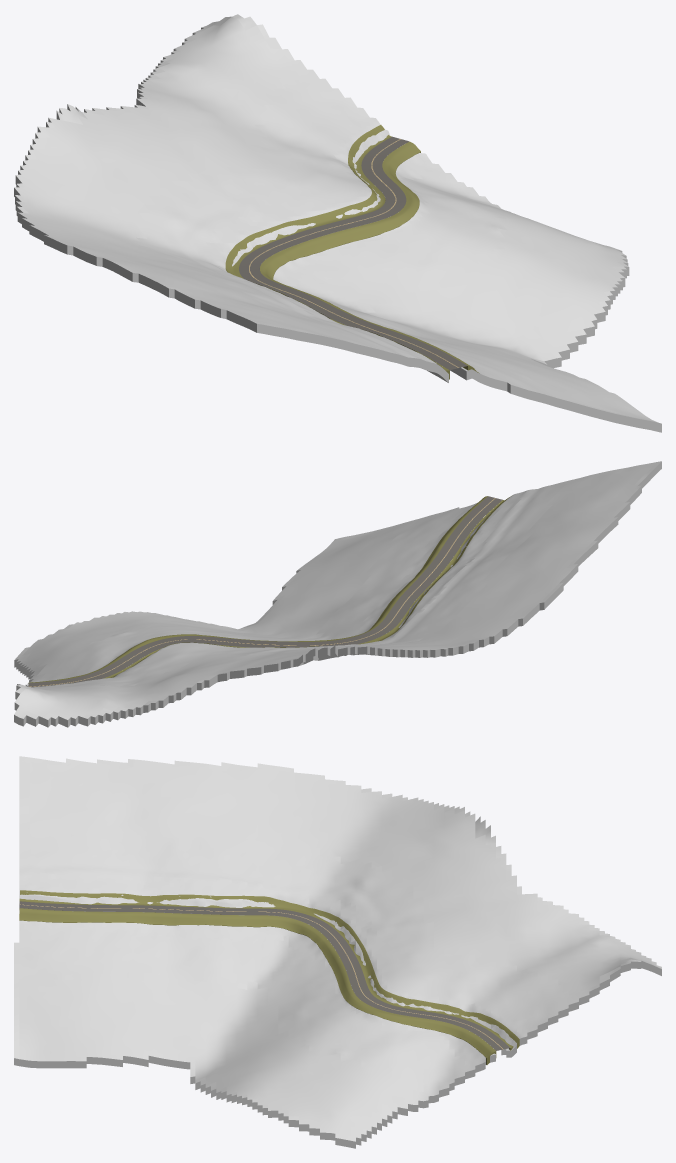
The model's file is conz_203.glb.
3 renders of one model, top to bottom at view 1: azimuth 30°, elevation 25°; view 2: azimuth 150°, elevation 25°; view 3: azimuth 270°, elevation 25°, orthographic. The views are drawn at different scales.
Visible parts, largest first — view 1: terrain203, road203, verge203R, verge203L; view 2: terrain203, road203, verge203R, verge203L, paint_yellow203; view 3: terrain203, verge203R, road203, verge203L.
Part boxes in pixels (box(x1,y1,x2,y2)): terrain203: box(14, 14, 661, 432); road203: box(239, 136, 467, 369); verge203R: box(260, 141, 479, 373); verge203L: box(225, 125, 449, 379); terrain203: box(14, 461, 661, 727); road203: box(28, 496, 502, 687); verge203R: box(29, 496, 487, 683); verge203L: box(54, 496, 510, 685); paint_yellow203: box(29, 498, 495, 686); terrain203: box(14, 756, 661, 1148); verge203R: box(19, 908, 496, 1064); road203: box(19, 901, 509, 1050); verge203L: box(19, 890, 519, 1050).
Bounding box in the file's own units: 208 × 75.77 × 250.
